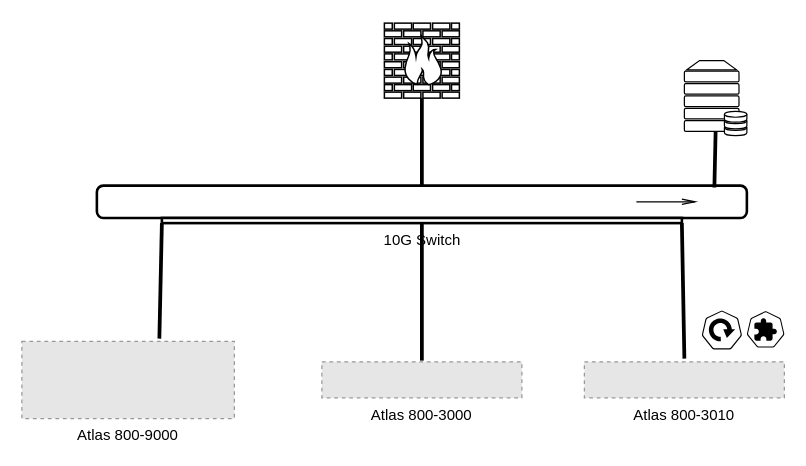
Some shapes in this 806 by 466 pixel diagram are drawn without their labels. Grey dashed boxes stand in for pictures. The shapes that lost their labels are listed below. From the top down, each one's centre as x and y in pixels, then its label:
At point 421,60: "Firewall".
At point 715,97: "Storage Server".
